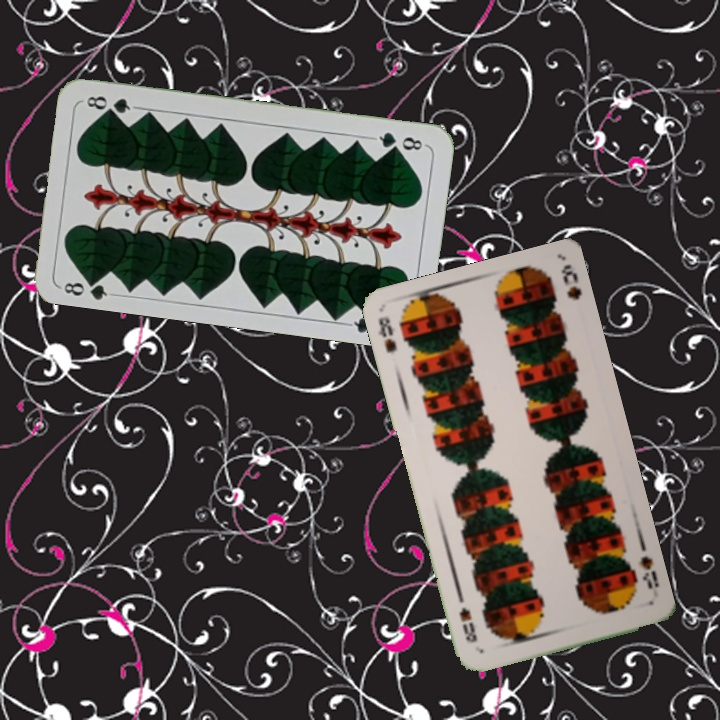G8: (57, 272, 116, 302), (369, 128, 428, 154)
S8: (374, 312, 400, 355), (635, 551, 662, 592)
